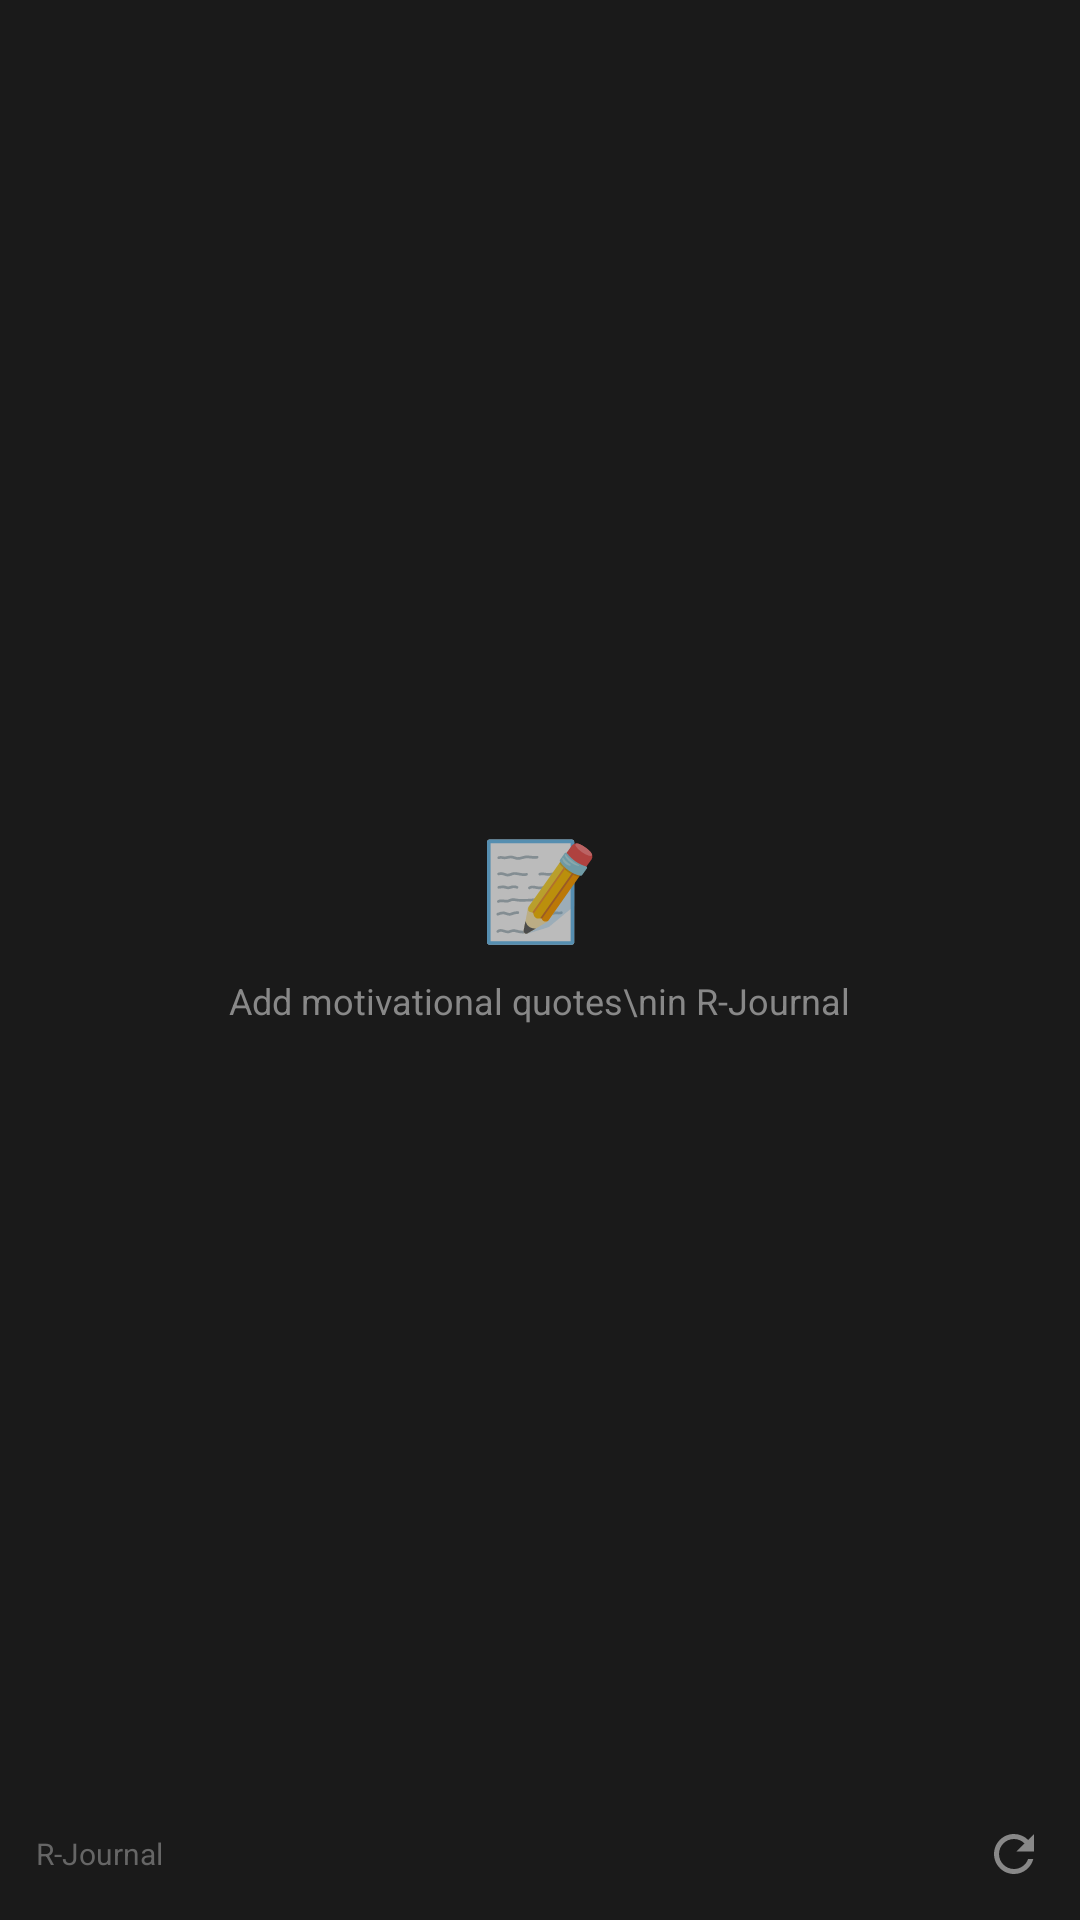

Icon click points for this 1080w x 1920h phone screenshot, format point (x, y):
Refresh: point (1014, 1854)
